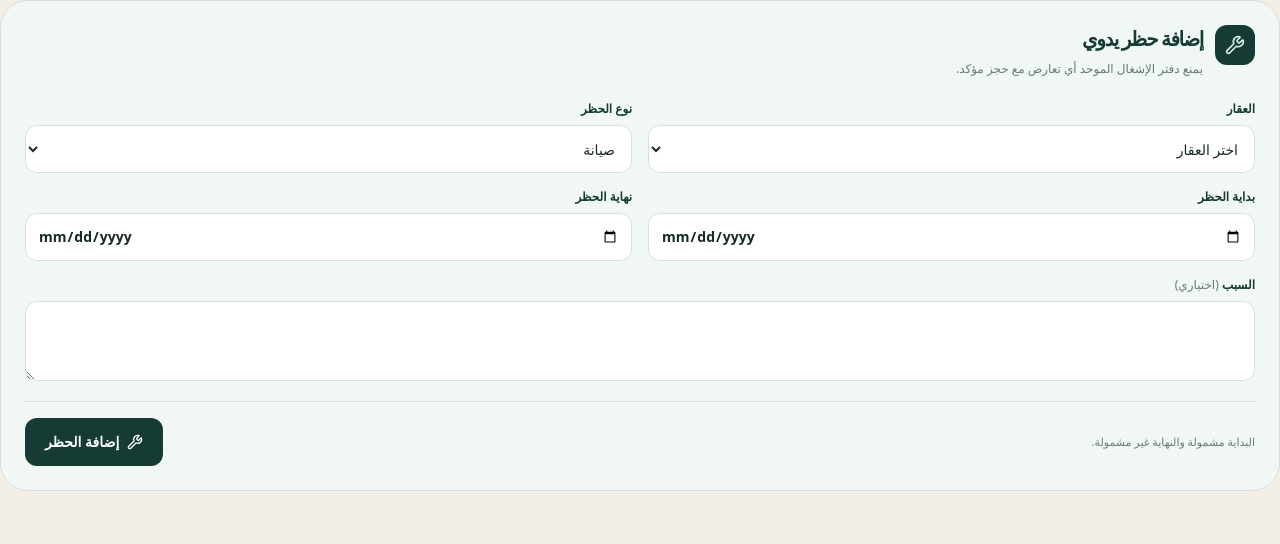
Scenario: AvailabilityBlockCreateForm › submits a maintenance block to the supplied server action
Select "NILE-202 — شقة النيل" in the dropdown labelled "العقار" at (952, 149), box x1=648 y1=125 x2=1255 y2=173
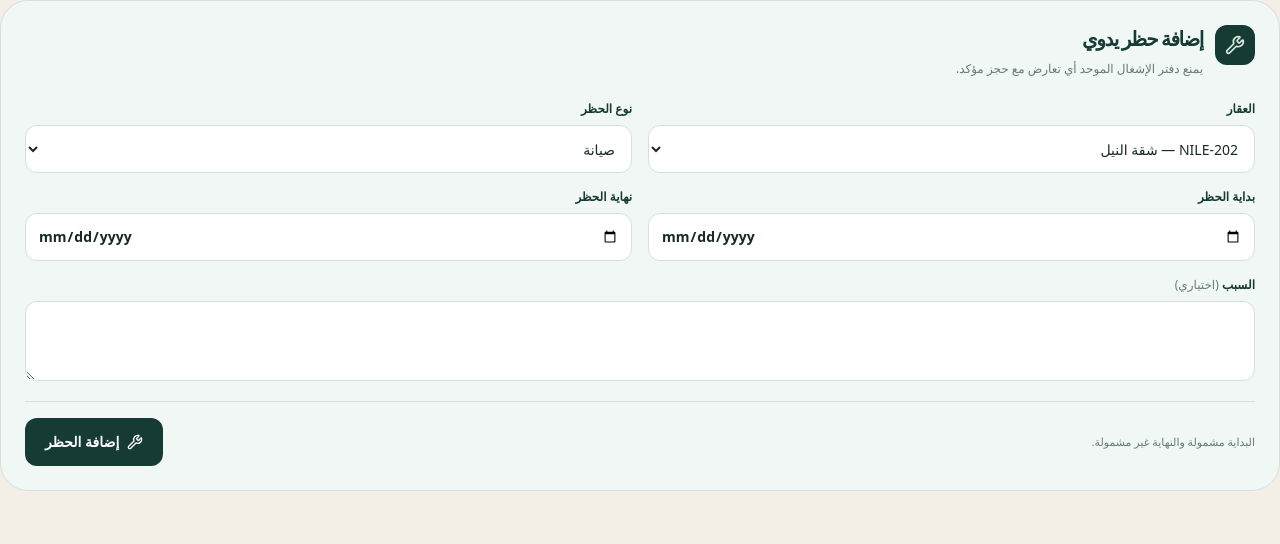
Type "2027-06-10" into the date field labelled "بداية الحظر" at (952, 237), box x1=648 y1=213 x2=1255 y2=261
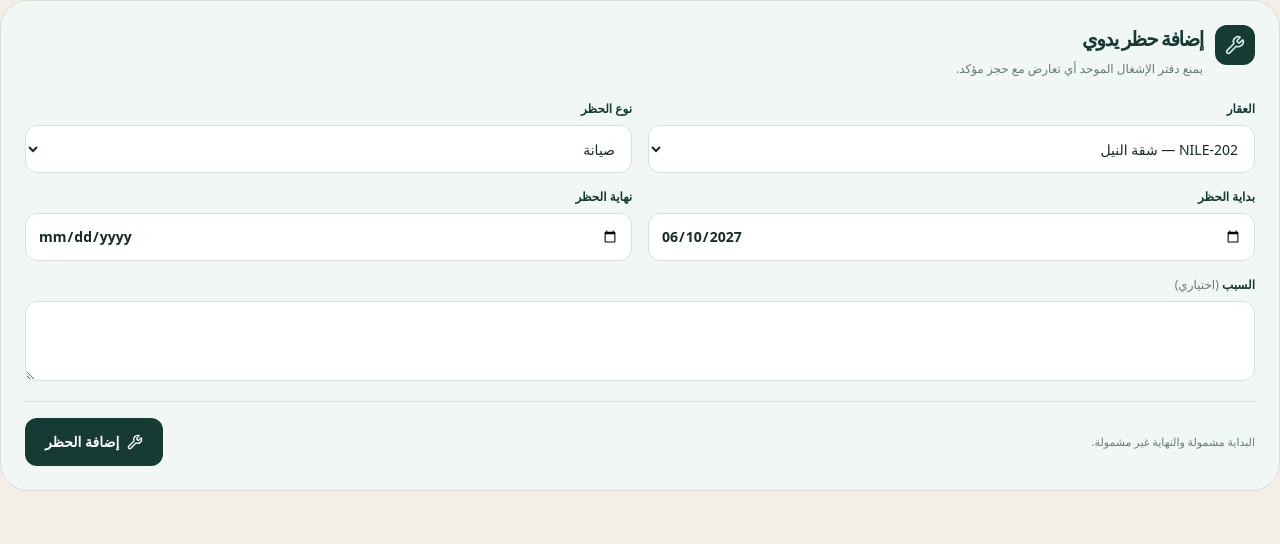
Type "2027-06-14" into the date field labelled "نهاية الحظر" at (328, 237), box x1=25 y1=213 x2=632 y2=261
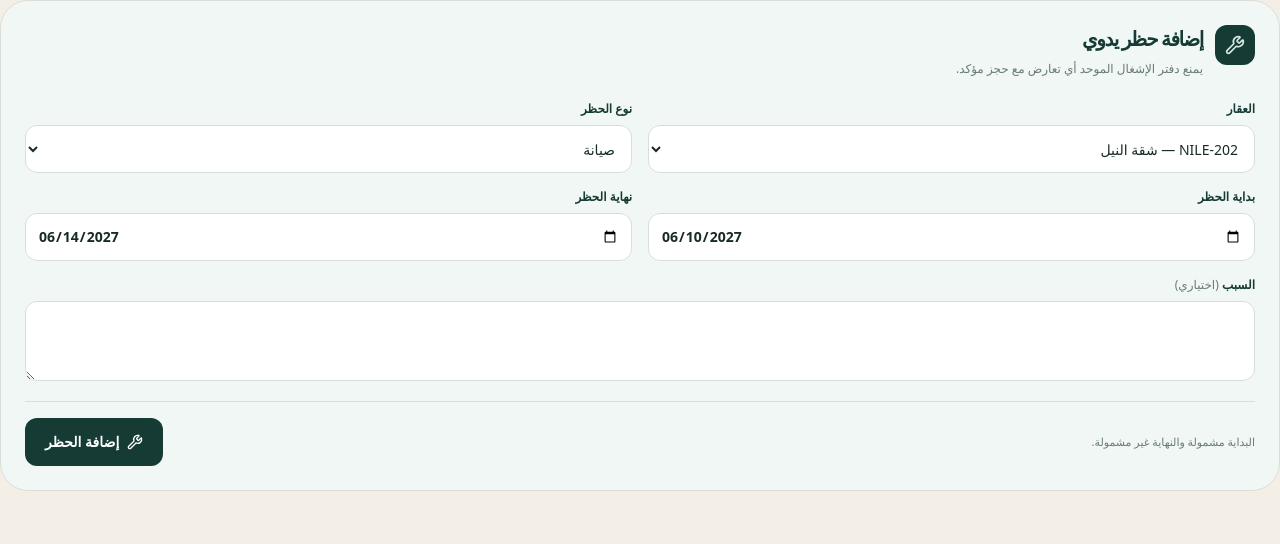
Select "صيانة" in the dropdown labelled "نوع الحظر" at (328, 149), box x1=25 y1=125 x2=632 y2=173
Click the button "إضافة الحظر" at (94, 442), box x1=25 y1=418 x2=163 y2=466
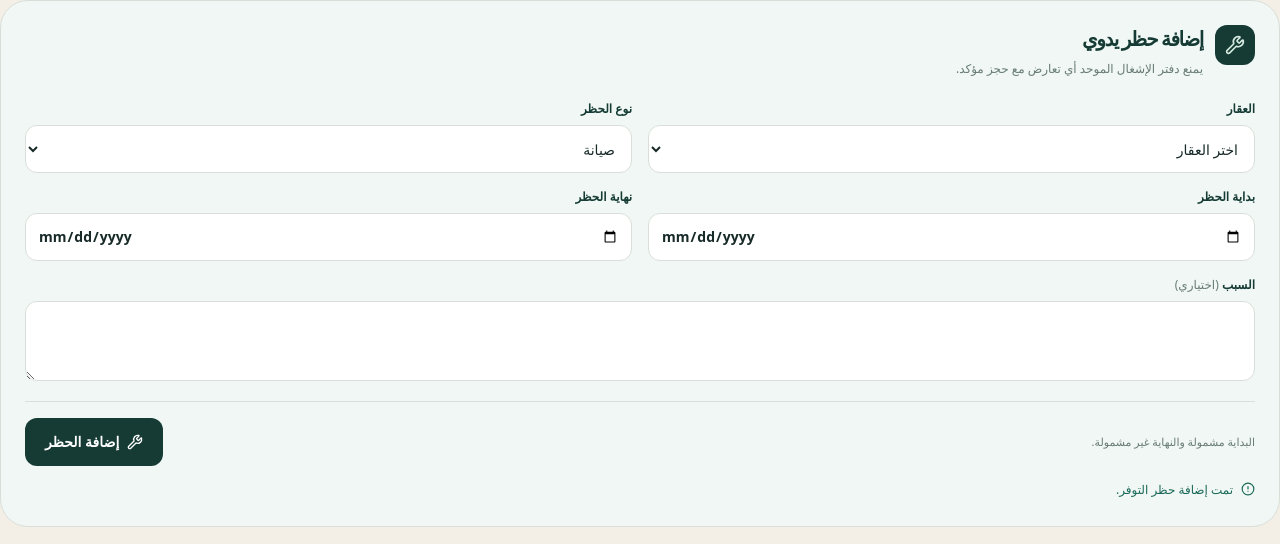
expect the text "تمت إضافة حظر التوفر." is shown: met, box x1=1116 y1=481 x2=1255 y2=498
